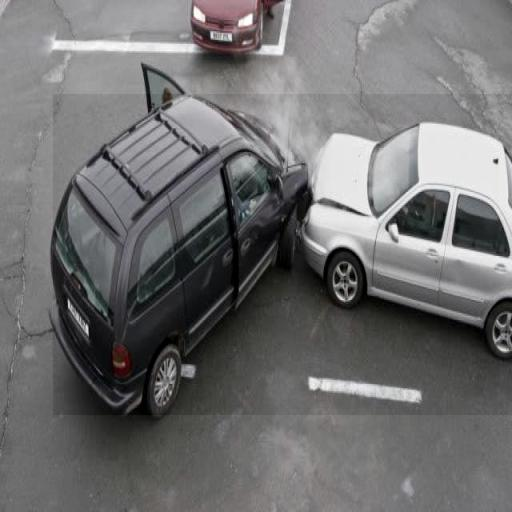小汽车: (188, 0, 278, 58)
小汽车撞小汽车: (53, 94, 512, 415)
